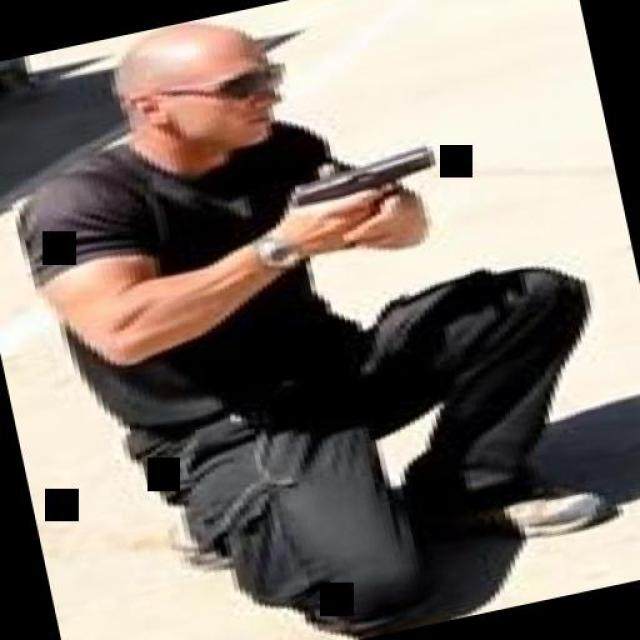gun: (271, 140, 449, 259)
